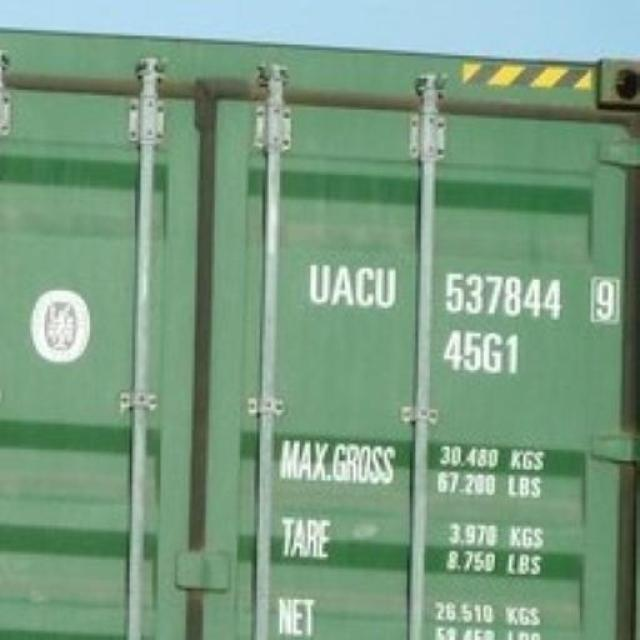ISO: (440, 328, 530, 383)
container_number: (294, 254, 622, 324)
